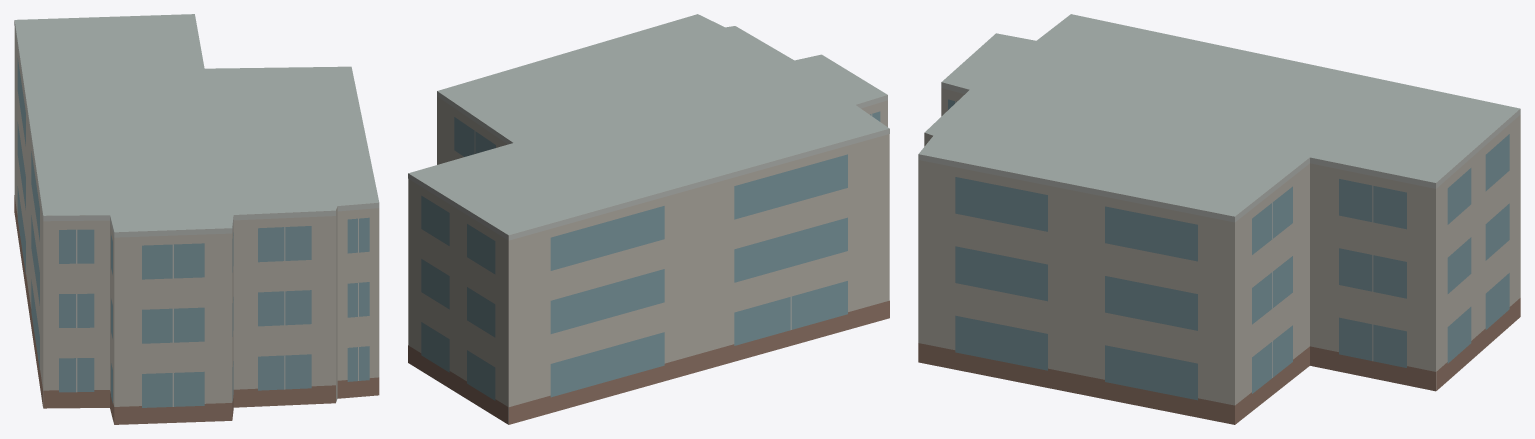
File: survey-upis-32744351.glb
The picture shows the model from 3 angles, left to right: view 1: azimuth 30°, elevation 25°; view 2: azimuth 150°, elevation 25°; view 3: azimuth 270°, elevation 25°; orthographic projection. The views are drawn at different scales.
Visible parts, largest first — view 1: survey-upis-32744351.tmp; view 2: survey-upis-32744351.tmp; view 3: survey-upis-32744351.tmp.
Boxes of the visible parts, left/top/right/bottom form: survey-upis-32744351.tmp: left=14, top=14, right=379, bottom=424; survey-upis-32744351.tmp: left=408, top=14, right=889, bottom=424; survey-upis-32744351.tmp: left=918, top=14, right=1520, bottom=424.
Size of the model in its own units: 18.17 by 8.7 by 22.81.
